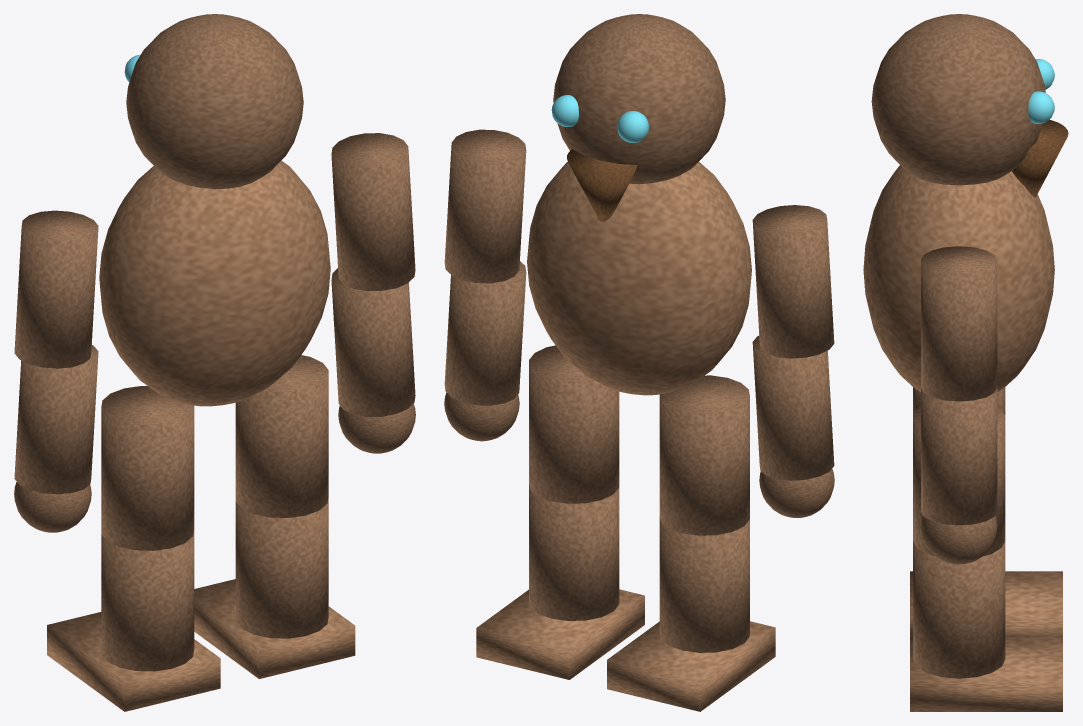
The model's file is gnome.glb.
The picture shows the model from 3 angles, left to right: view 1: azimuth 30°, elevation 25°; view 2: azimuth 150°, elevation 25°; view 3: azimuth 270°, elevation 25°; orthographic projection. The views are drawn at different scales.
Visible parts, largest first — view 1: Torso, Head, ThighL, ThighR, UpperArmR, UpperArmL, ShinL, ShinR, ForearmR, ForearmL, FootL, FootR (+2 smaller); view 2: Torso, Head, ThighL, ThighR, UpperArmR, UpperArmL, ShinL, ShinR, ForearmR, ForearmL, FootR, FootL (+5 smaller); view 3: Torso, Head, UpperArmR, ShinR, ForearmR, FootR, FootL, HandR, ThighR, Beard, Eye.001, ThighL (+1 smaller).
Part boxes in pixels (x1,y1,x2,y2): Torso: (99,160,330,406); Head: (126,14,303,189); ThighL: (101,386,194,550); ThighR: (235,355,328,517); UpperArmR: (331,133,415,291); UpperArmL: (14,210,98,368); ShinL: (101,529,194,671); ShinR: (235,497,328,638); ForearmR: (331,268,415,416); ForearmL: (14,345,98,494); FootL: (47,612,220,711); FootR: (194,579,355,678); Torso: (527,161,751,395); Head: (553,14,725,184); ThighL: (659,375,749,535); ThighR: (529,345,619,503); UpperArmR: (444,129,526,283); UpperArmL: (752,205,834,358); ShinL: (659,515,749,652); ShinR: (529,484,619,620); ForearmR: (444,261,526,405); ForearmL: (752,335,834,480); FootR: (476,589,644,679); FootL: (607,621,775,711); Torso: (863,165,1054,392); Head: (871,14,1045,185); UpperArmR: (921,246,997,401); ShinR: (913,541,1005,678); ForearmR: (921,388,997,525); FootR: (910,636,1062,711); FootL: (910,571,1062,635); HandR: (921,515,997,564); ThighR: (913,406,1005,556); Beard: (1012,119,1068,197); Eye.001: (1028,91,1054,123); ThighL: (913,387,1005,415).
Bounding box in the file's own units: 0.6367 × 1 × 0.293.
Materials: 4 (3 with a texture image).
